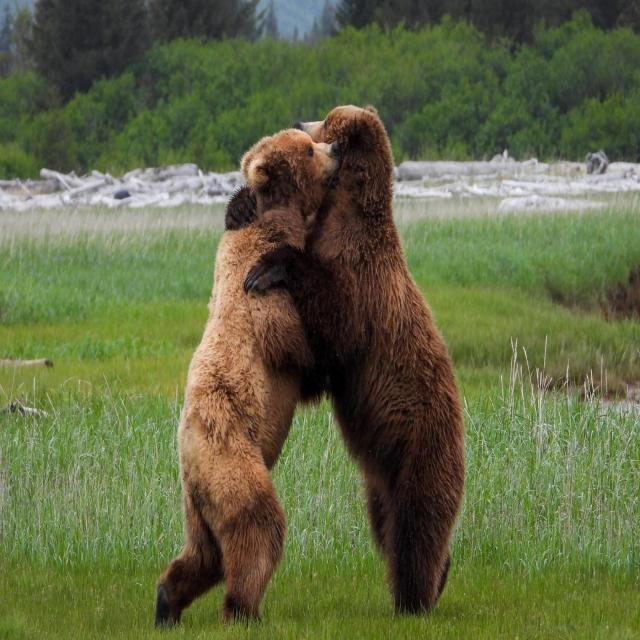Bear: (244, 106, 466, 618), (158, 129, 331, 627)
